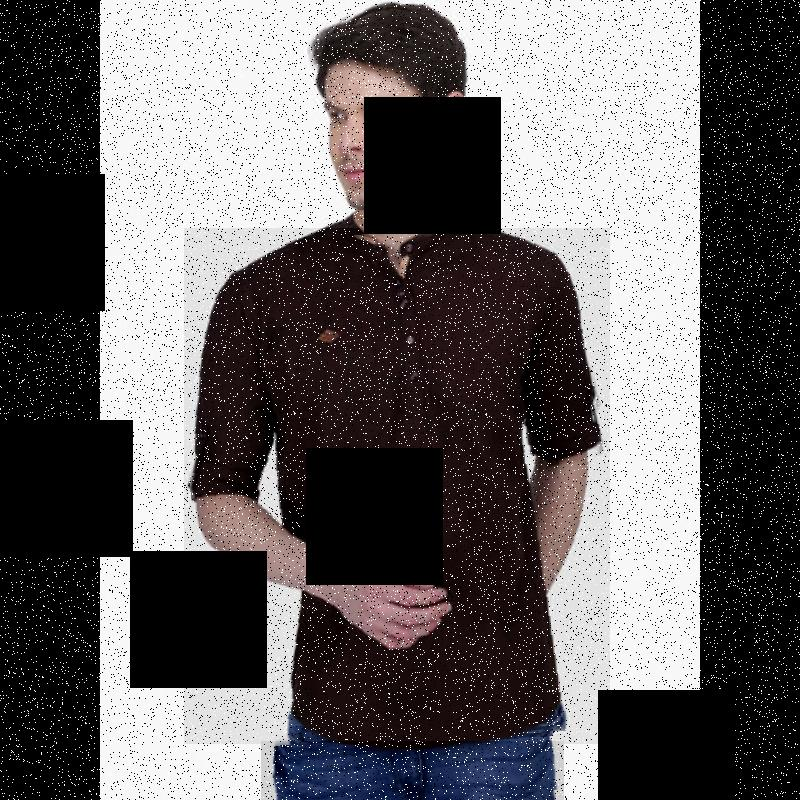Jeans: (261, 741, 564, 800)
Shirt: (184, 228, 610, 744)
